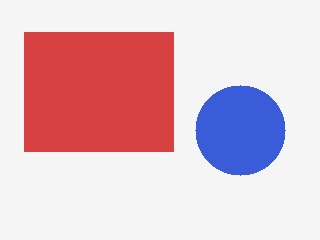circle: (196, 86, 285, 175)
rectangle: (25, 33, 174, 152)
